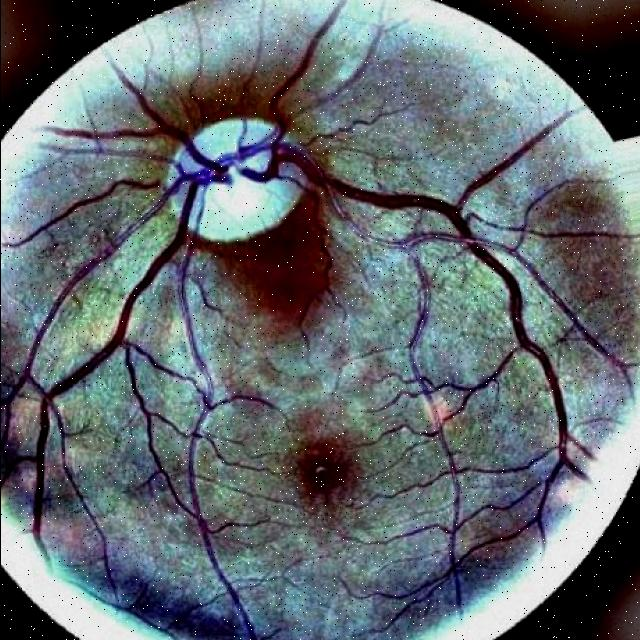Macula: (298, 444, 346, 497)
Nerves: (0, 6, 629, 640)
Optic Disk: (166, 118, 306, 242)
